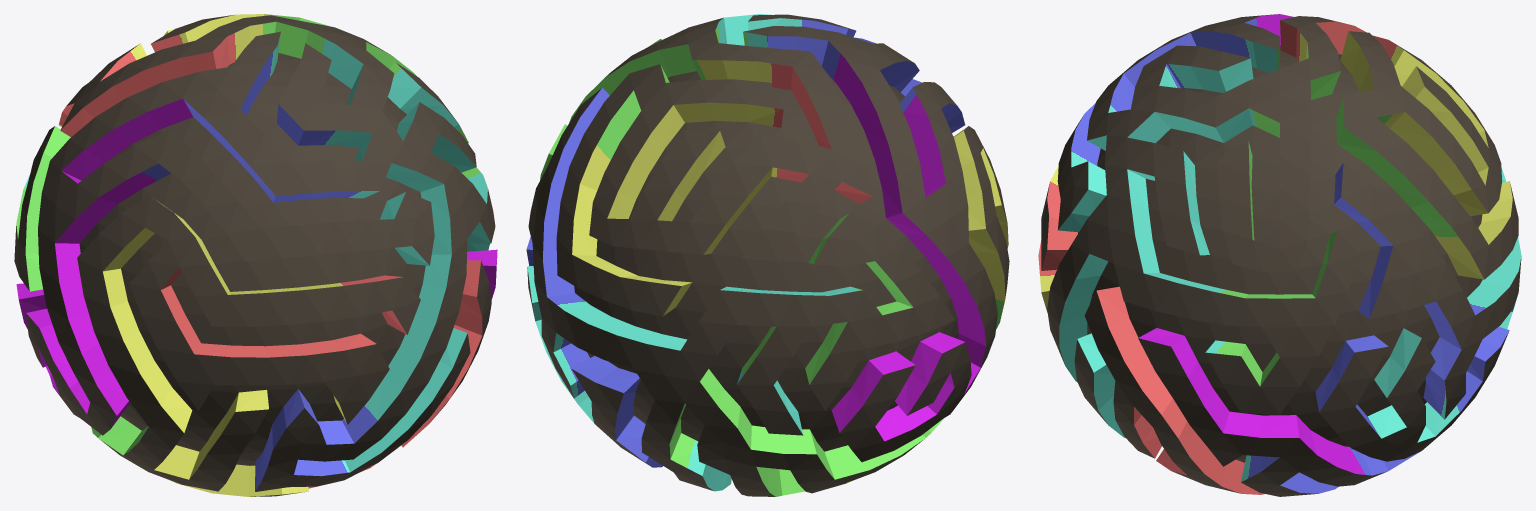
The model's file is Colliders_lvl_UV.FBX.
3 renders of one model, left to right at view 1: azimuth 30°, elevation 25°; view 2: azimuth 150°, elevation 25°; view 3: azimuth 270°, elevation 25°, orthographic.
Parts seen in each view (by area): view 1: Exterior1, Paredes1, Exterior2, Interior, Paredes2; view 2: Exterior1, Exterior2, Paredes1, Interior, Paredes2; view 3: Exterior1, Paredes1, Interior, Exterior2, Paredes2.
Part boxes in pixels (x1=…): Exterior1: x1=26, y1=15, x2=495, y2=491; Paredes1: x1=16, y1=14, x2=490, y2=491; Exterior2: x1=14, y1=126, x2=497, y2=496; Interior: x1=79, y1=53, x2=425, y2=465; Paredes2: x1=16, y1=126, x2=497, y2=496; Exterior1: x1=556, y1=14, x2=997, y2=462; Exterior2: x1=527, y1=88, x2=1009, y2=496; Paredes1: x1=540, y1=14, x2=986, y2=441; Interior: x1=574, y1=71, x2=958, y2=451; Paredes2: x1=526, y1=88, x2=1008, y2=496; Exterior1: x1=1047, y1=14, x2=1518, y2=423; Paredes1: x1=1058, y1=14, x2=1512, y2=437; Interior: x1=1078, y1=45, x2=1482, y2=462; Exterior2: x1=1041, y1=162, x2=1521, y2=496; Paredes2: x1=1038, y1=163, x2=1521, y2=494.
Size of the model in its own units: 2 by 2 by 2.
